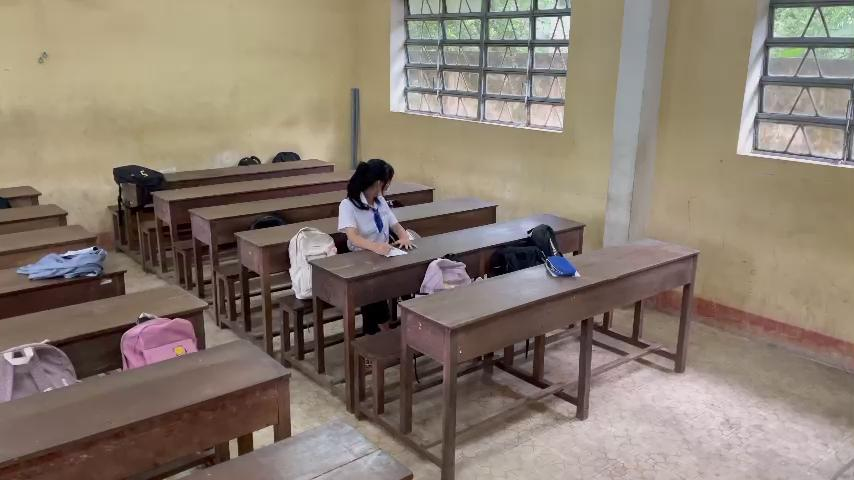Look Around: (344, 156, 396, 201)
